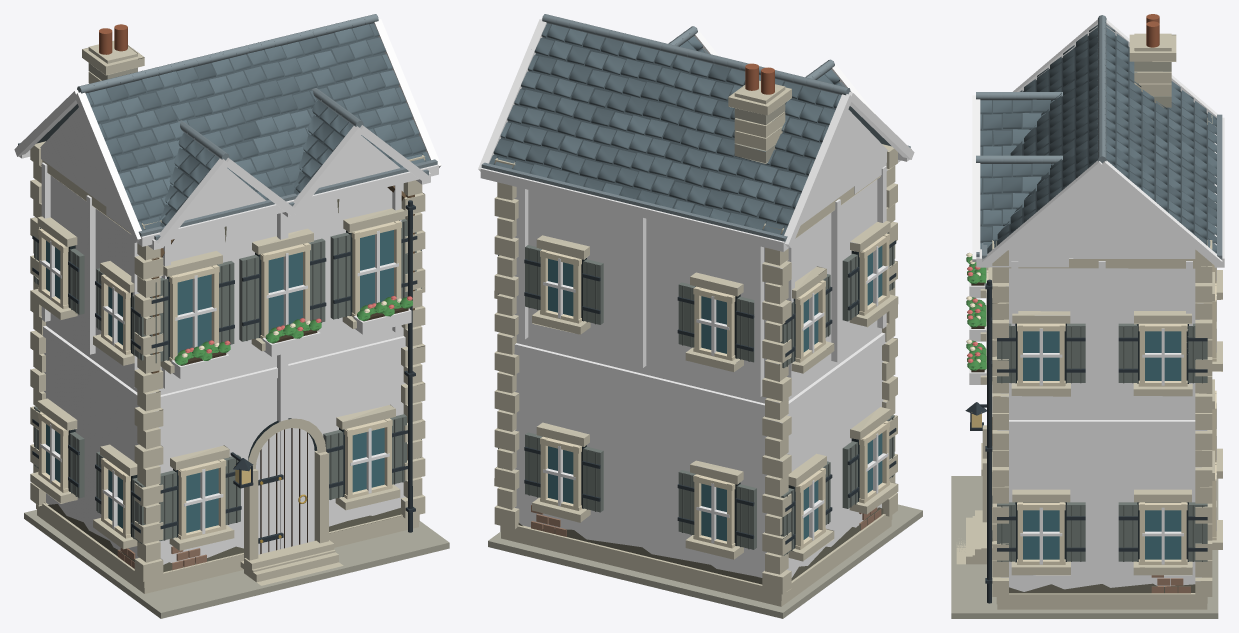
File: townhouse.glb
3 renders of one model, left to right at view 1: azimuth 30°, elevation 25°; view 2: azimuth 150°, elevation 25°; view 3: azimuth 270°, elevation 25°, orthographic. The views are drawn at different scales.
Parts seen in each view (by area): view 1: SourceMesh_00005, SourceMesh_00098, SourceMesh_00000, SourceMesh_00089, SourceMesh_00172, SourceMesh_00084, SourceMesh_00092, SourceMesh_00006, SourceMesh_00090, SourceMesh_00163, SourceMesh_00143, SourceMesh_00085 (+58 smaller); view 2: SourceMesh_00005, SourceMesh_00098, SourceMesh_00086, SourceMesh_00000, SourceMesh_00006, SourceMesh_00084, SourceMesh_00092, SourceMesh_00087, SourceMesh_00001, SourceMesh_00088, SourceMesh_00093, SourceMesh_00640 (+41 smaller); view 3: SourceMesh_00005, SourceMesh_00098, SourceMesh_00095, SourceMesh_00000, SourceMesh_00163, SourceMesh_00086, SourceMesh_00143, SourceMesh_00006, SourceMesh_00084, SourceMesh_00089, SourceMesh_00096, SourceMesh_00097 (+44 smaller).
Boxes of the visible parts, left/top/right/bottom form: SourceMesh_00005: left=44, top=175, right=413, bottom=564; SourceMesh_00098: left=85, top=23, right=430, bottom=230; SourceMesh_00000: left=24, top=509, right=449, bottom=618; SourceMesh_00089: left=88, top=24, right=426, bottom=229; SourceMesh_00172: left=255, top=428, right=314, bottom=554; SourceMesh_00084: left=42, top=326, right=406, bottom=410; SourceMesh_00092: left=40, top=107, right=125, bottom=220; SourceMesh_00006: left=36, top=503, right=419, bottom=587; SourceMesh_00090: left=137, top=164, right=438, bottom=246; SourceMesh_00163: left=292, top=99, right=353, bottom=194; SourceMesh_00143: left=158, top=133, right=219, bottom=227; SourceMesh_00085: left=277, top=213, right=288, bottom=549; SourceMesh_00005: left=506, top=179, right=886, bottom=577; SourceMesh_00098: left=489, top=23, right=841, bottom=235; SourceMesh_00086: left=493, top=24, right=838, bottom=234; SourceMesh_00000: left=488, top=504, right=922, bottom=618; SourceMesh_00006: left=500, top=514, right=892, bottom=600; SourceMesh_00084: left=514, top=332, right=891, bottom=418; SourceMesh_00092: left=800, top=109, right=888, bottom=225; SourceMesh_00087: left=480, top=168, right=788, bottom=251; SourceMesh_00001: left=501, top=520, right=891, bottom=606; SourceMesh_00088: left=481, top=162, right=787, bottom=241; SourceMesh_00093: left=784, top=94, right=852, bottom=247; SourceMesh_00640: left=636, top=216, right=646, bottom=368; SourceMesh_00005: left=1001, top=258, right=1203, bottom=591; SourceMesh_00098: left=987, top=24, right=1216, bottom=253; SourceMesh_00095: left=1008, top=170, right=1195, bottom=258; SourceMesh_00000: left=951, top=476, right=1218, bottom=618; SourceMesh_00163: left=980, top=163, right=1053, bottom=249; SourceMesh_00086: left=1106, top=35, right=1214, bottom=245; SourceMesh_00143: left=980, top=99, right=1054, bottom=155; SourceMesh_00006: left=996, top=593, right=1207, bottom=604; SourceMesh_00084: left=997, top=420, right=1207, bottom=430; SourceMesh_00089: left=996, top=35, right=1097, bottom=245; SourceMesh_00096: left=1100, top=160, right=1222, bottom=267; SourceMesh_00097: left=982, top=160, right=1104, bottom=267.
Size of the model in its own units: 5.89 by 9.28 by 4.71.
